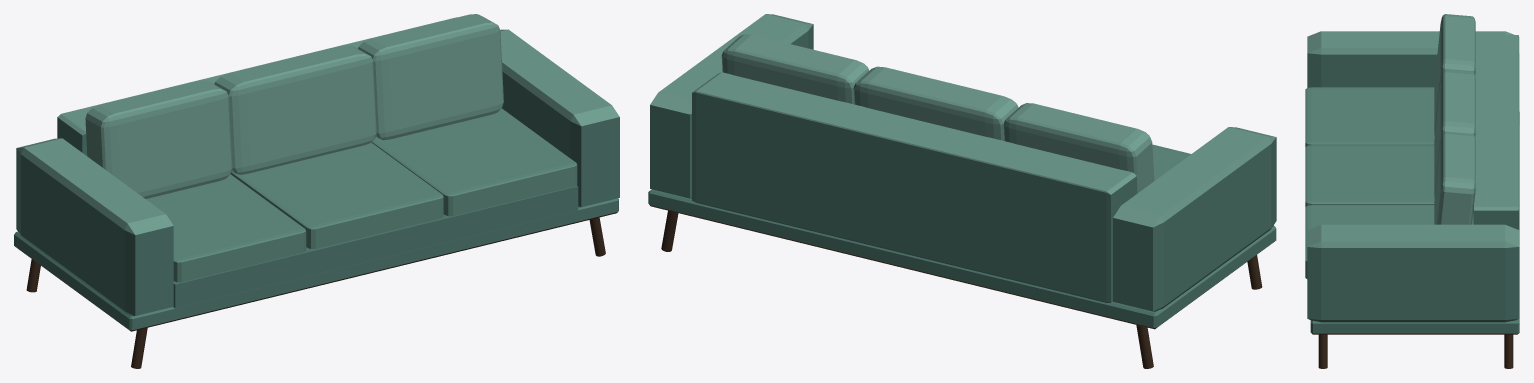
The model's file is sofa.glb.
3 views of the same model, side by side, from view 1: azimuth 30°, elevation 25°; view 2: azimuth 150°, elevation 25°; view 3: azimuth 270°, elevation 25° (orthographic). The views are drawn at different scales.
Parts seen in each view (by area): view 1: sofa; view 2: sofa; view 3: sofa.
Boxes of the visible parts, box(x1,y1,x2,y2) form: sofa: box(14, 14, 619, 368); sofa: box(648, 14, 1276, 368); sofa: box(1305, 14, 1519, 368).
Size of the model in its own units: 2.53 by 0.95 by 1.08.
